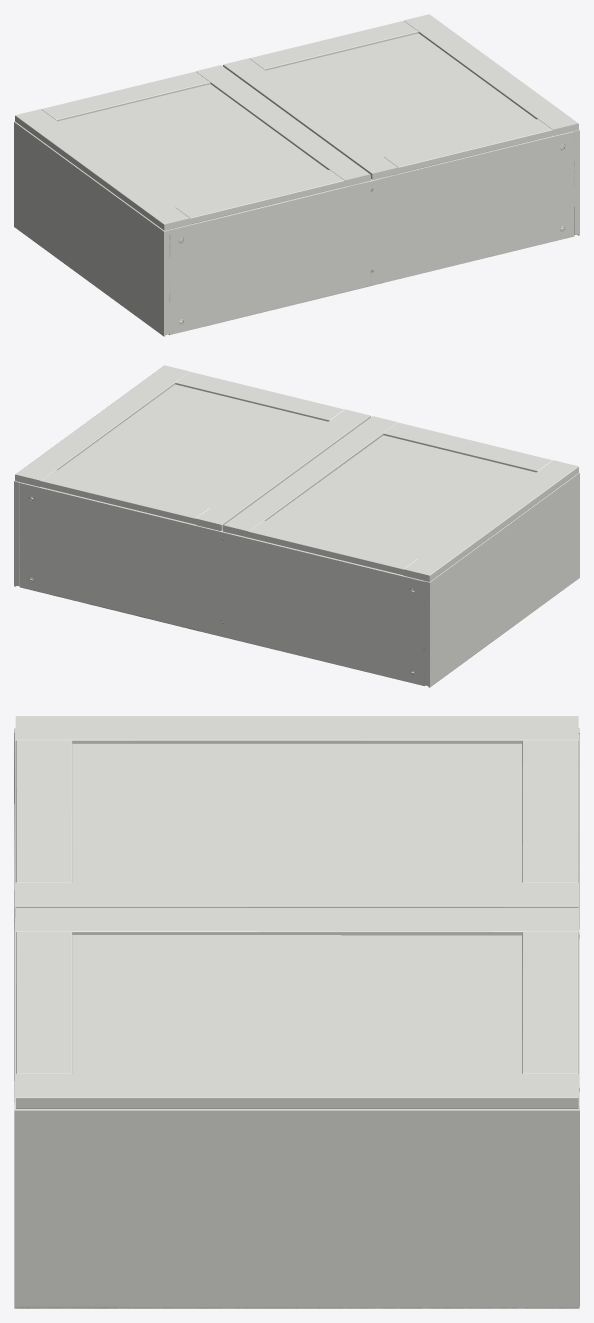
The model's file is knoxhult-armario-de-pared-con-puertas-blanco-estructura-80603978.glb.
The picture shows the model from 3 angles, top to bottom: view 1: azimuth 30°, elevation 25°; view 2: azimuth 150°, elevation 25°; view 3: azimuth 270°, elevation 25°; orthographic projection. The views are drawn at different scales.
Parts seen in each view (by area): view 1: ASY_ART_80603978_S01_NV01, ASY_LPT01_80603978_S01_NV01, ASY_LPT02_80603978_S01_NV01; view 2: ASY_ART_80603978_S01_NV01, ASY_LPT01_80603978_S01_NV01, ASY_LPT02_80603978_S01_NV01; view 3: ASY_ART_80603978_S01_NV01, ASY_LPT02_80603978_S01_NV01, ASY_LPT01_80603978_S01_NV01.
Part boxes in pixels (x1,y1,x2,y2): ASY_ART_80603978_S01_NV01: [14, 121, 579, 336]; ASY_LPT01_80603978_S01_NV01: [15, 65, 370, 230]; ASY_LPT02_80603978_S01_NV01: [223, 14, 578, 179]; ASY_ART_80603978_S01_NV01: [14, 472, 579, 687]; ASY_LPT01_80603978_S01_NV01: [223, 416, 578, 581]; ASY_LPT02_80603978_S01_NV01: [15, 365, 370, 530]; ASY_ART_80603978_S01_NV01: [14, 728, 579, 1308]; ASY_LPT02_80603978_S01_NV01: [16, 908, 578, 1108]; ASY_LPT01_80603978_S01_NV01: [15, 716, 578, 917].
Bounding box in the file's own units: 1.2 × 0.3086 × 0.7504.
4 materials, 4 textured.
